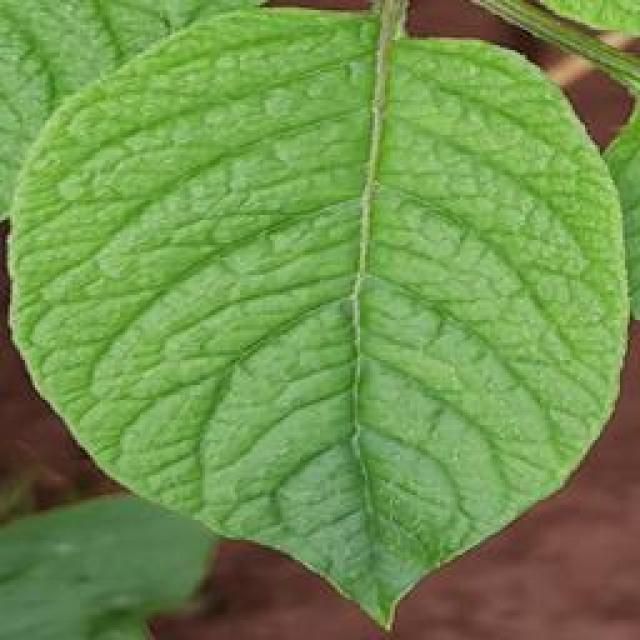healthy: (3, 3, 635, 635)
